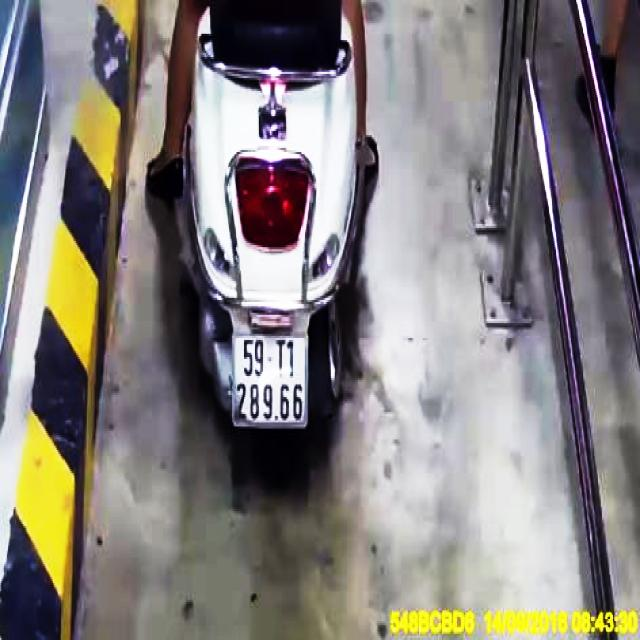license_plate: (232, 336, 308, 428)
